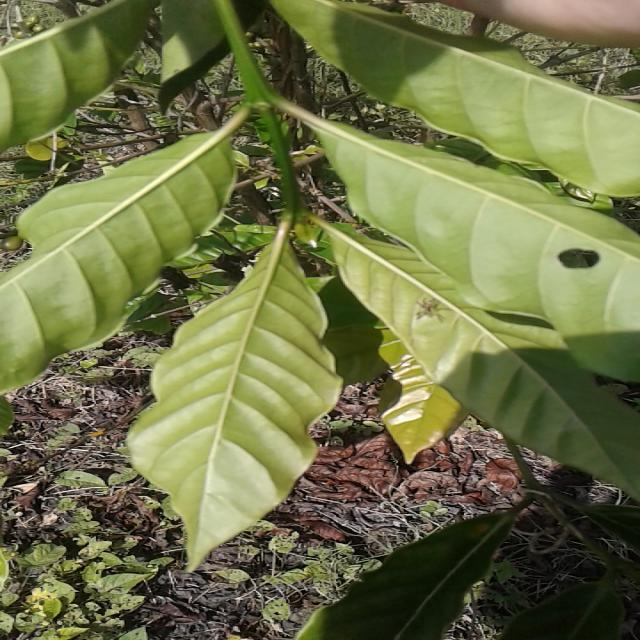Sanas: (126, 218, 346, 574)
